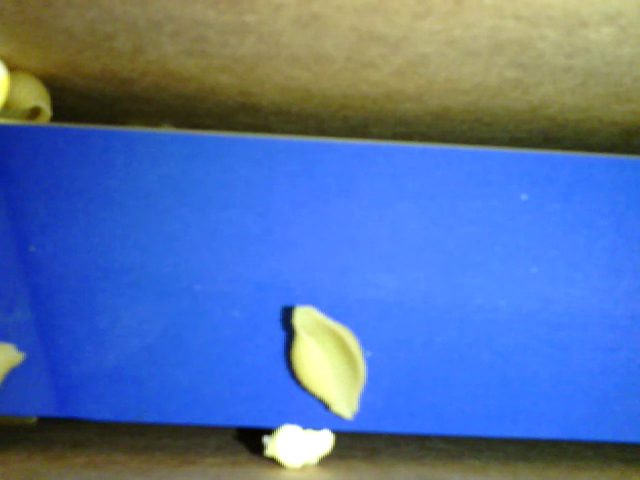shell: (284, 303, 368, 419), (1, 71, 53, 127)
